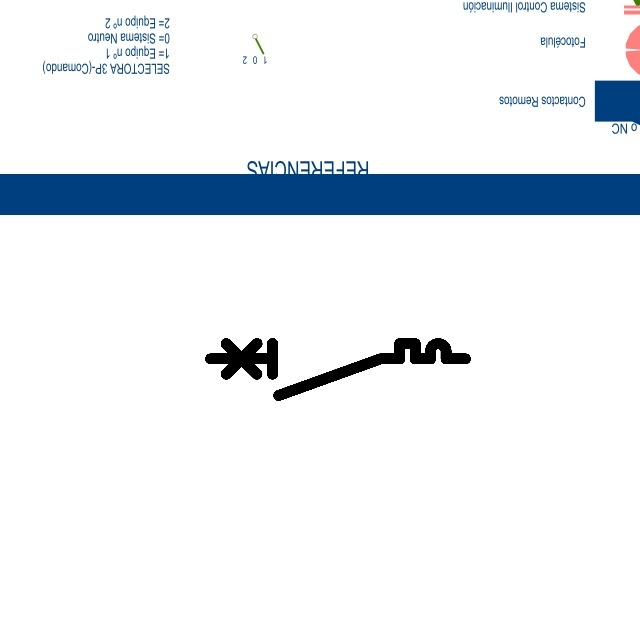interruptor_termomagnetico: (204, 337, 472, 402)
